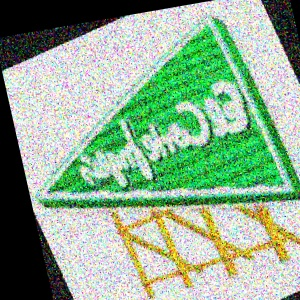corte_ingles: (215, 26, 271, 96)
